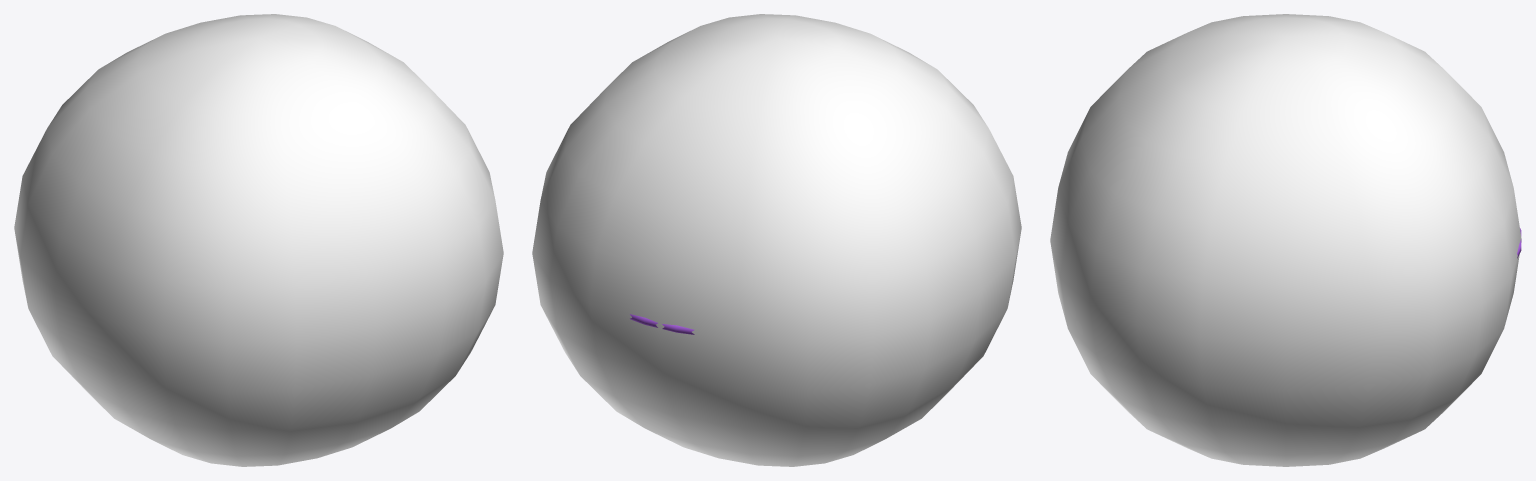
File: Snowball.glb
3 views of the same model, side by side, from view 1: azimuth 30°, elevation 25°; view 2: azimuth 150°, elevation 25°; view 3: azimuth 270°, elevation 25° (orthographic).
Visible parts, largest first — view 1: Body; view 2: Body; view 3: Body.
Boxes of the visible parts, x1,y1,x2,y2 form: Body: [14, 14, 503, 466]; Body: [532, 14, 1021, 466]; Body: [1050, 14, 1521, 466].
Bounding box in the file's own units: 0.588 × 0.5544 × 0.5824.
Materials: 1 (1 with a texture image).
